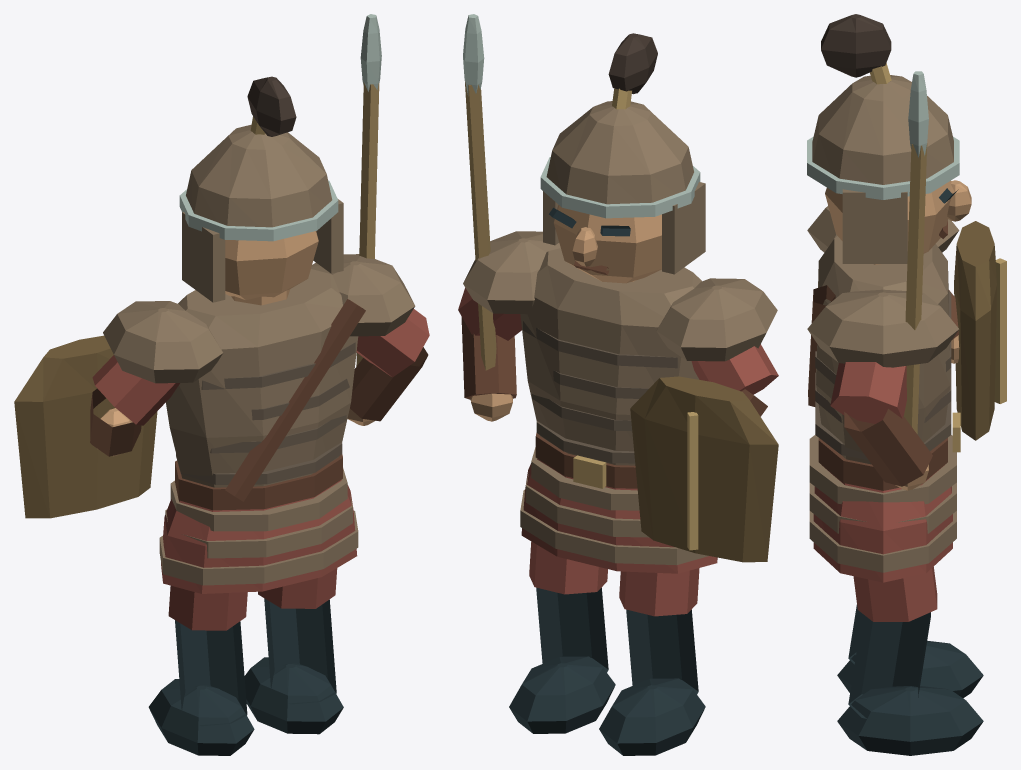
Rendered from attacker.obj.
The picture shows the model from 3 angles, left to right: view 1: azimuth 30°, elevation 25°; view 2: azimuth 150°, elevation 25°; view 3: azimuth 270°, elevation 25°; orthographic projection. The views are drawn at different scales.
Bounding box in the file's own units: 1.62 × 2.94 × 0.7356.
